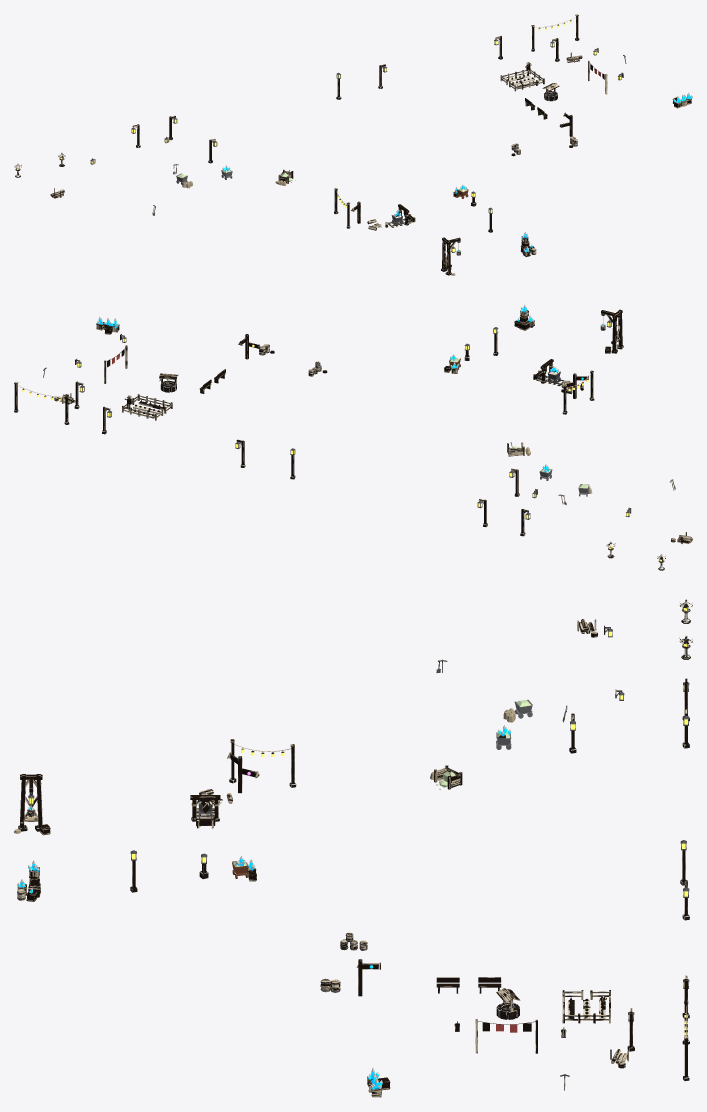
File: LOBBY_08_PROPS_dd376e.fbx
3 renders of one model, top to bottom at view 1: azimuth 30°, elevation 25°; view 2: azimuth 150°, elevation 25°; view 3: azimuth 270°, elevation 25°, orthographic. The views are drawn at different scales.
Parts seen in each view (by area): view 1: PROP_Story_East__Wood_Plank, PROP_Lanterns_Center__Wood_Dark_B, PROP_Story_East__Wood_Dark_B, PROP_Lanterns_East__Wood_Dark; view 2: PROP_Lanterns_Center__Wood_Dark_B, PROP_Story_East__Wood_Plank, PROP_Story_East__Wood_Dark_B, PROP_Lanterns_East__Wood_Dark; view 3: PROP_Story_East__Wood_Plank, PROP_Lanterns_Center__Wood_Dark_B, PROP_Story_East__Wood_Dark_B, PROP_Lanterns_East__Wood_Dark.
Part boxes in pixels (box(x1,y1,x2,y2)): PROP_Story_East__Wood_Plank: box(501, 56, 691, 156); PROP_Lanterns_Center__Wood_Dark_B: box(334, 188, 531, 273); PROP_Story_East__Wood_Dark_B: box(500, 52, 691, 136); PROP_Lanterns_East__Wood_Dark: box(337, 14, 623, 97); PROP_Lanterns_Center__Wood_Dark_B: box(465, 309, 622, 411); PROP_Story_East__Wood_Plank: box(43, 322, 327, 418); PROP_Story_East__Wood_Dark_B: box(54, 323, 248, 420); PROP_Lanterns_East__Wood_Dark: box(14, 334, 294, 476); PROP_Story_East__Wood_Plank: box(320, 932, 610, 1097); PROP_Lanterns_Center__Wood_Dark_B: box(17, 739, 294, 901); PROP_Story_East__Wood_Dark_B: box(358, 959, 628, 1096); PROP_Lanterns_East__Wood_Dark: box(455, 850, 688, 1077).
Bounding box in the file's own units: 245 × 14.54 × 147.
Materials: 15 (4 with a texture image).
